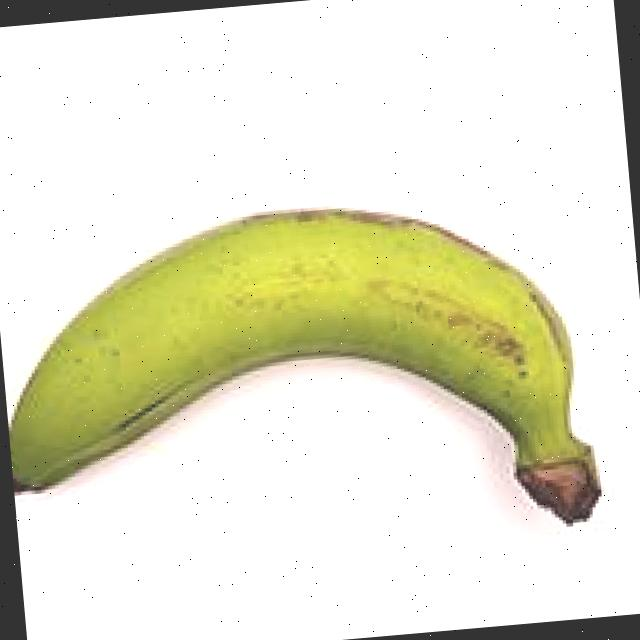Raw: (0, 137, 630, 608)
